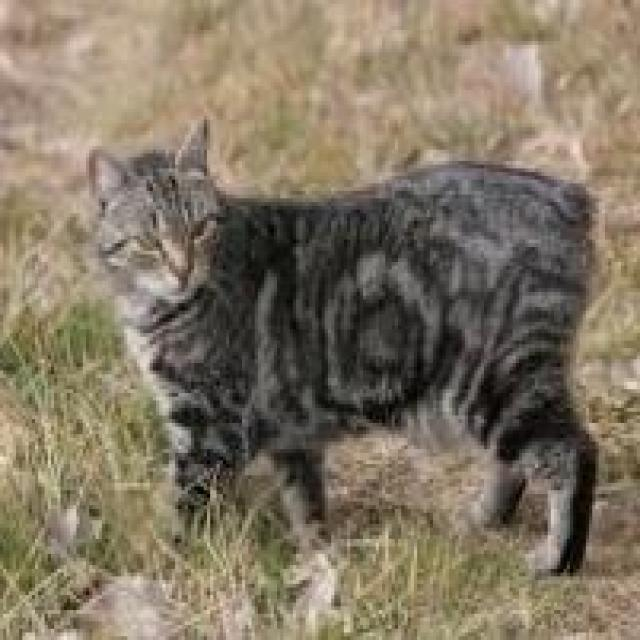Gato: (83, 113, 602, 576)
